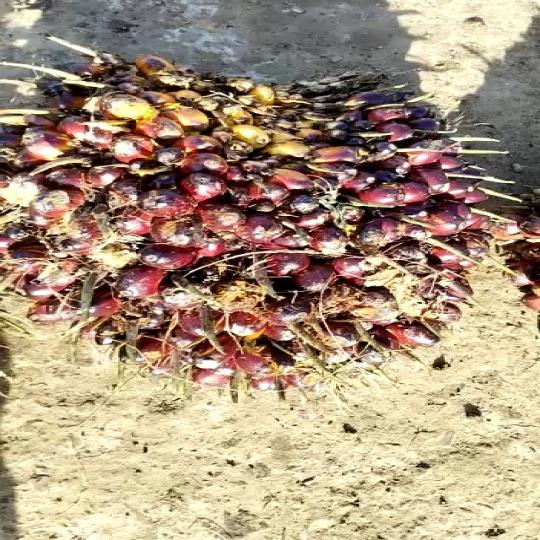kurang masak: (0, 43, 511, 401)
